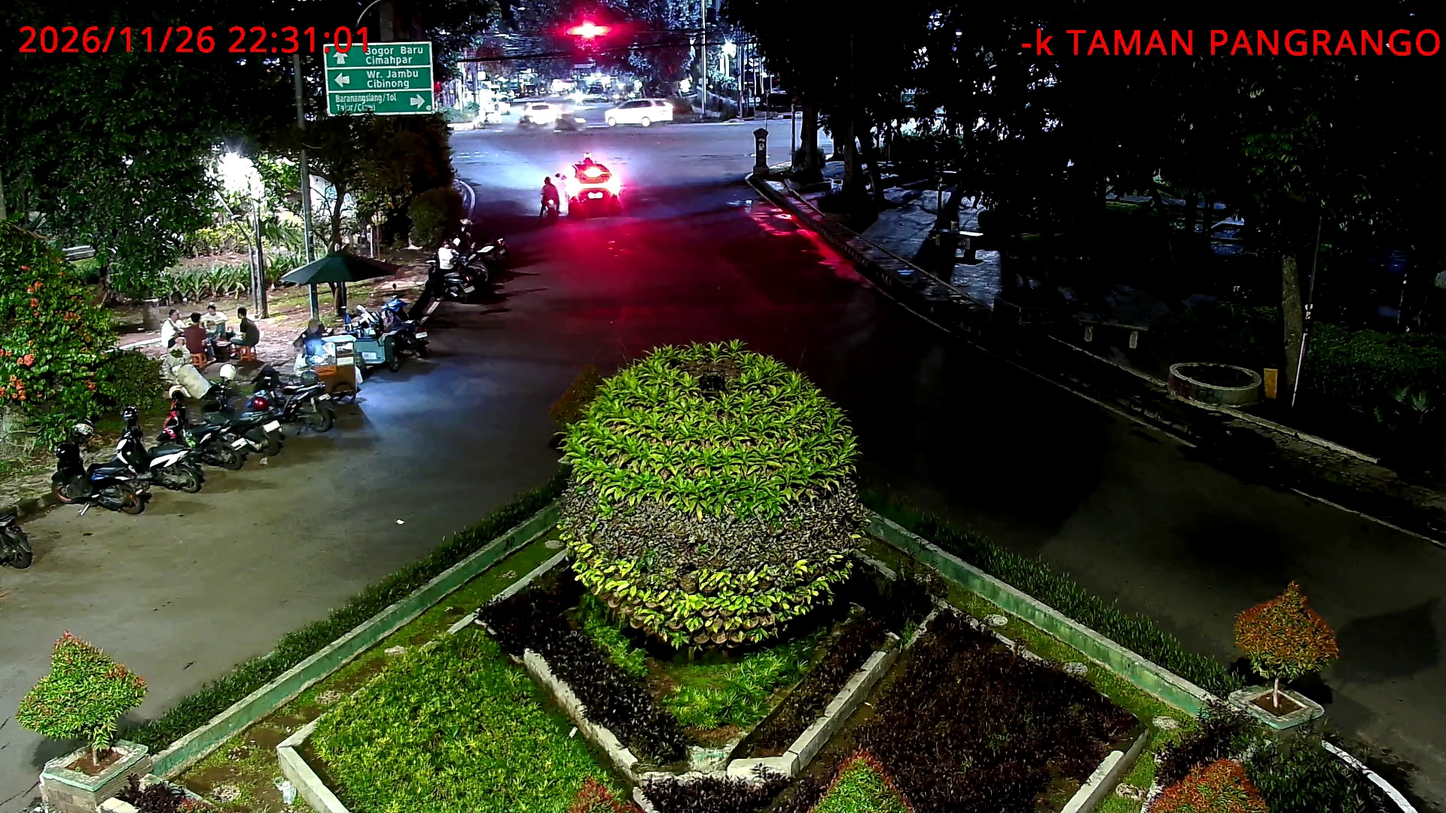Gerobak: (291, 314, 364, 408)
